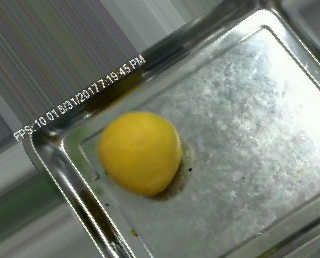Mango: (96, 109, 184, 197)
